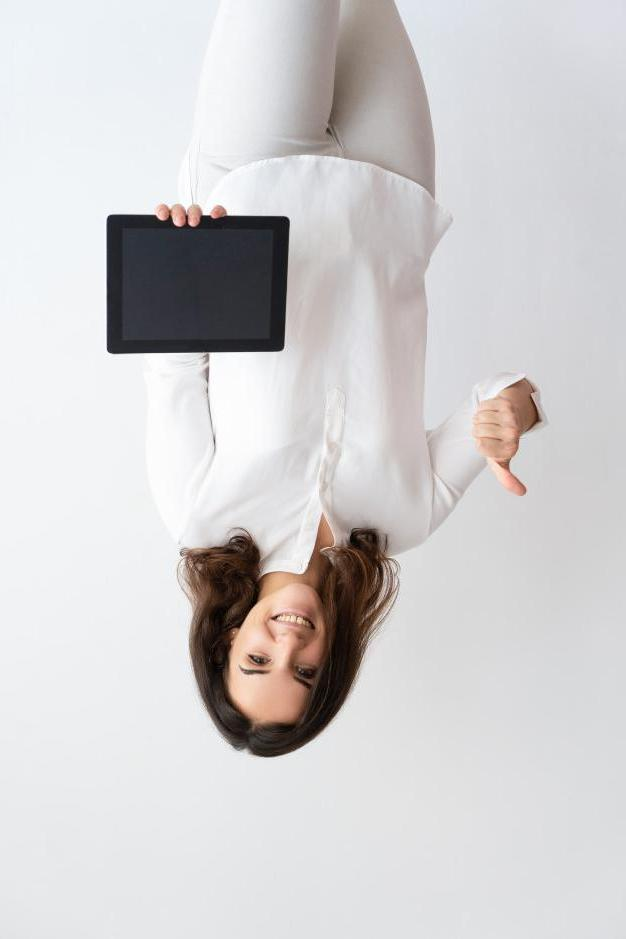thumbsdown: (473, 397, 527, 496)
